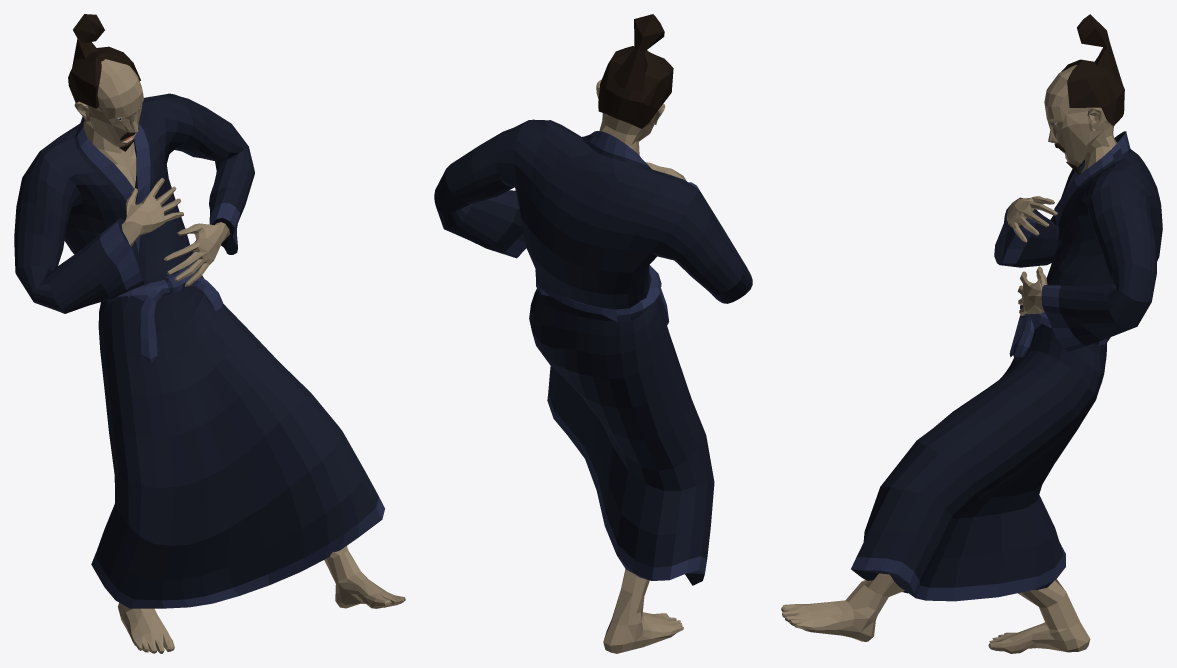
File: samurai_static_death_02.glb
3 renders of one model, left to right at view 1: azimuth 30°, elevation 25°; view 2: azimuth 150°, elevation 25°; view 3: azimuth 270°, elevation 25°, orthographic. The views are drawn at different scales.
Visible parts, largest first — view 1: m_mesh_death_02; view 2: m_mesh_death_02; view 3: m_mesh_death_02.
Part boxes in pixels (box(x1,y1,x2,y2)): m_mesh_death_02: box(14, 14, 405, 653); m_mesh_death_02: box(434, 14, 752, 653); m_mesh_death_02: box(781, 14, 1162, 653).
Bounding box in the file's own units: 0.7509 × 1.64 × 0.9175.
Materials: 1 (1 with a texture image).
